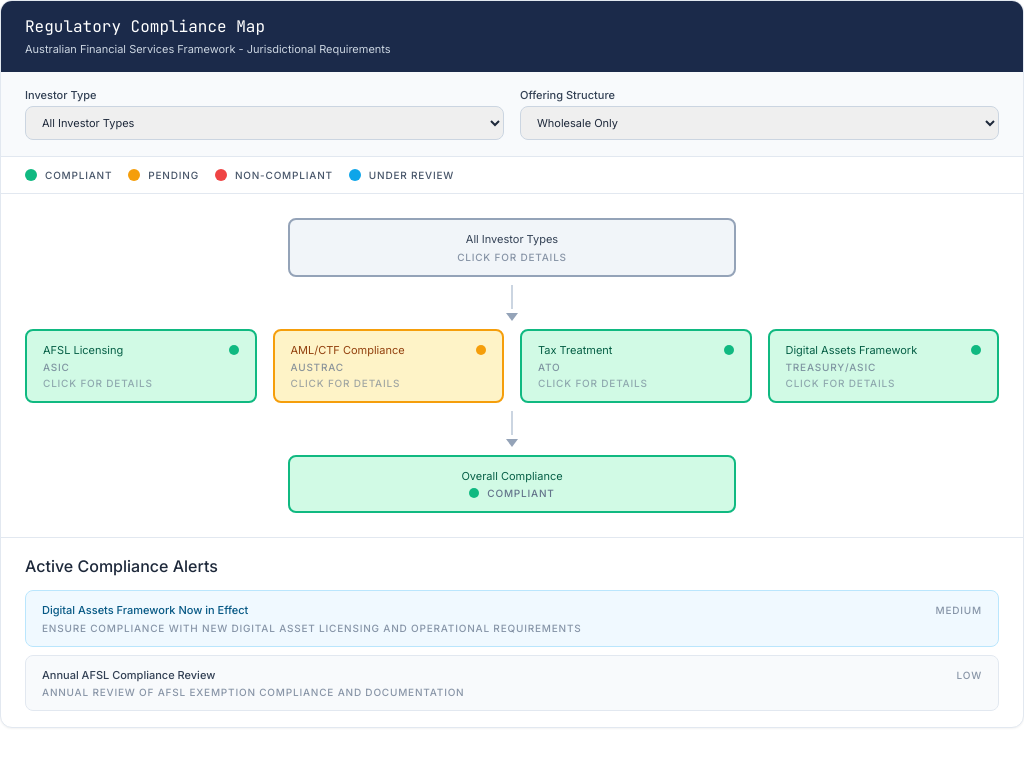
RegulatoryMap Component › AML/CTF node shows registration details
Click the button with test id "node-aml-ctf" at (388, 366), box [272, 329, 504, 403]
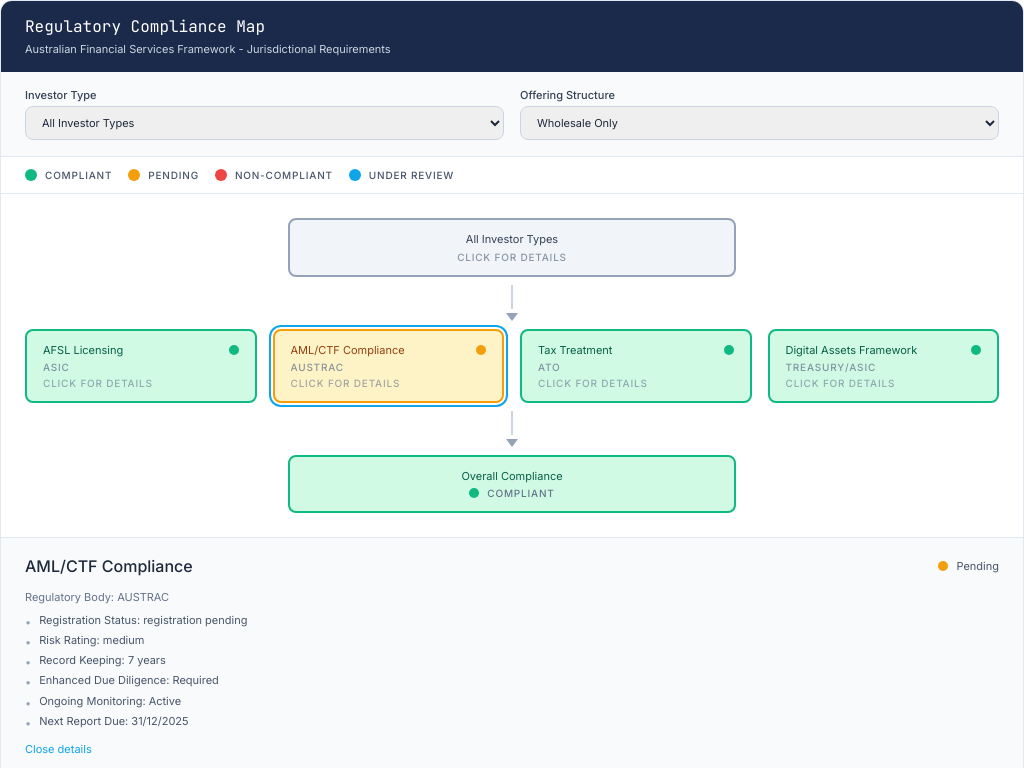
Check: the text "Regulatory Body: AUSTRAC" is shown, box [25, 590, 169, 604]
Check: the text "Risk Rating: medium" is shown, box [39, 633, 144, 647]
